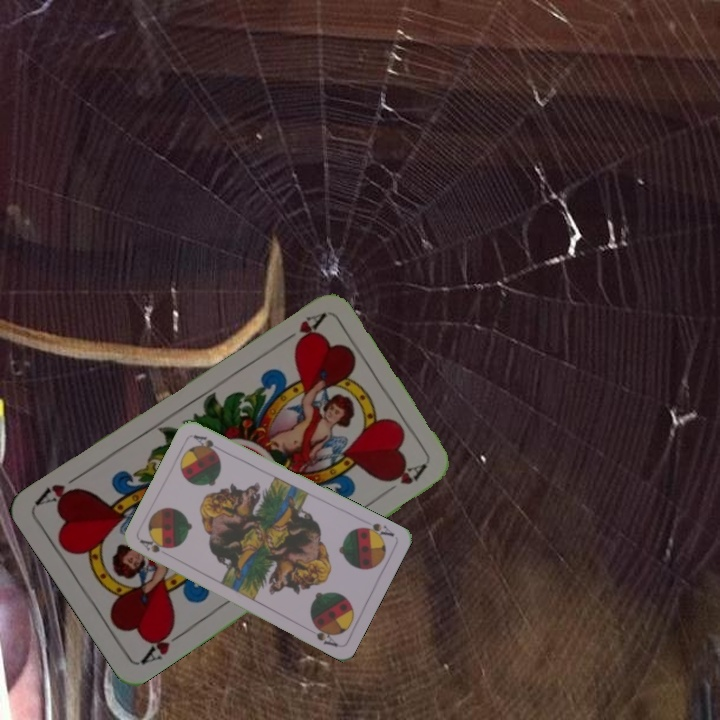HA: (136, 621, 189, 667), (274, 309, 327, 349)
SA: (356, 519, 397, 542), (136, 535, 170, 555)
